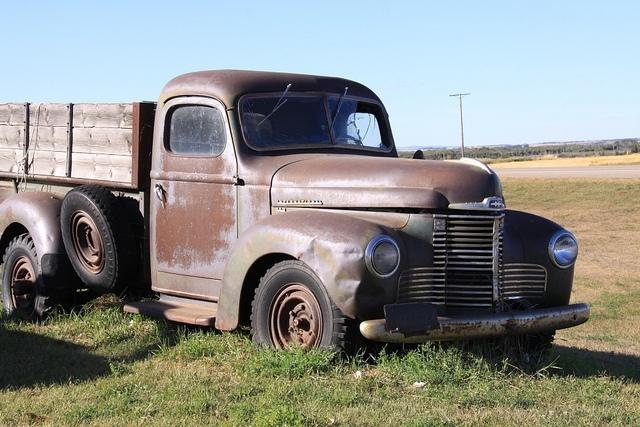truck: (2, 66, 590, 367)
